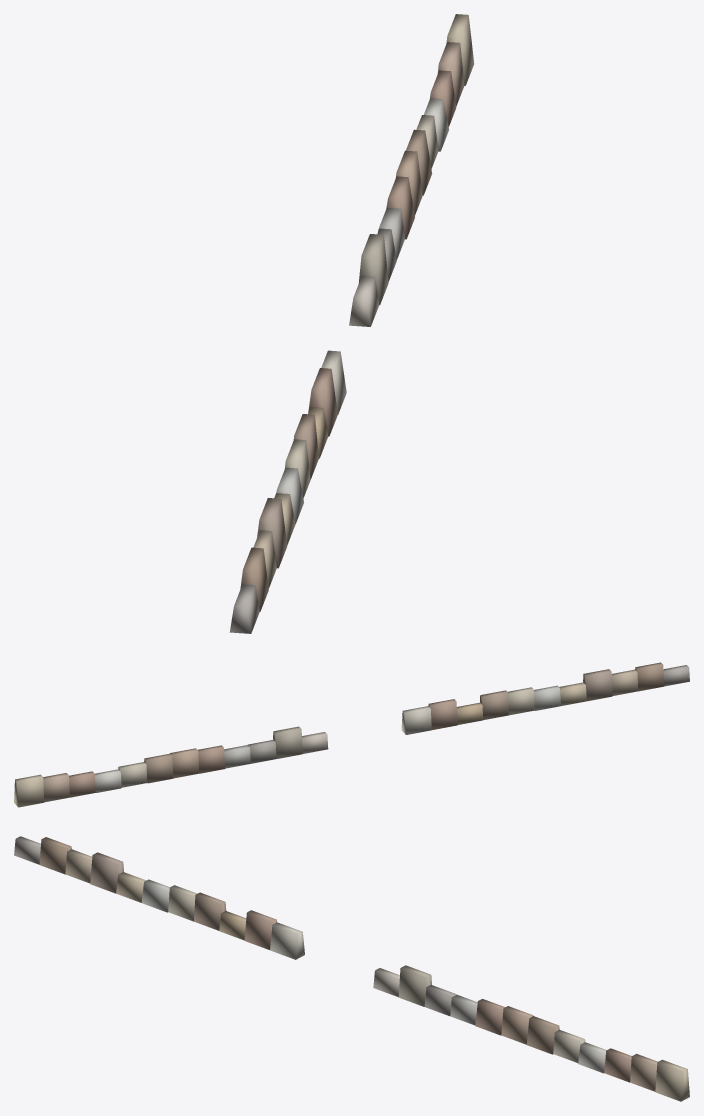
File: farm_-5_3_collision.glb
3 views of the same model, one above another, from view 1: azimuth 30°, elevation 25°; view 2: azimuth 150°, elevation 25°; view 3: azimuth 270°, elevation 25° (orthographic). The views are drawn at different scales.
Parts seen in each view (by area): view 1: geometry_0; view 2: geometry_0; view 3: geometry_0.
Part boxes in pixels (box(x1,y1,x2,y2)): geometry_0: box(229, 14, 474, 633); geometry_0: box(14, 662, 689, 807); geometry_0: box(14, 836, 689, 1101).
Size of the model in its own units: 26.21 by 2.36 by 32.31.
